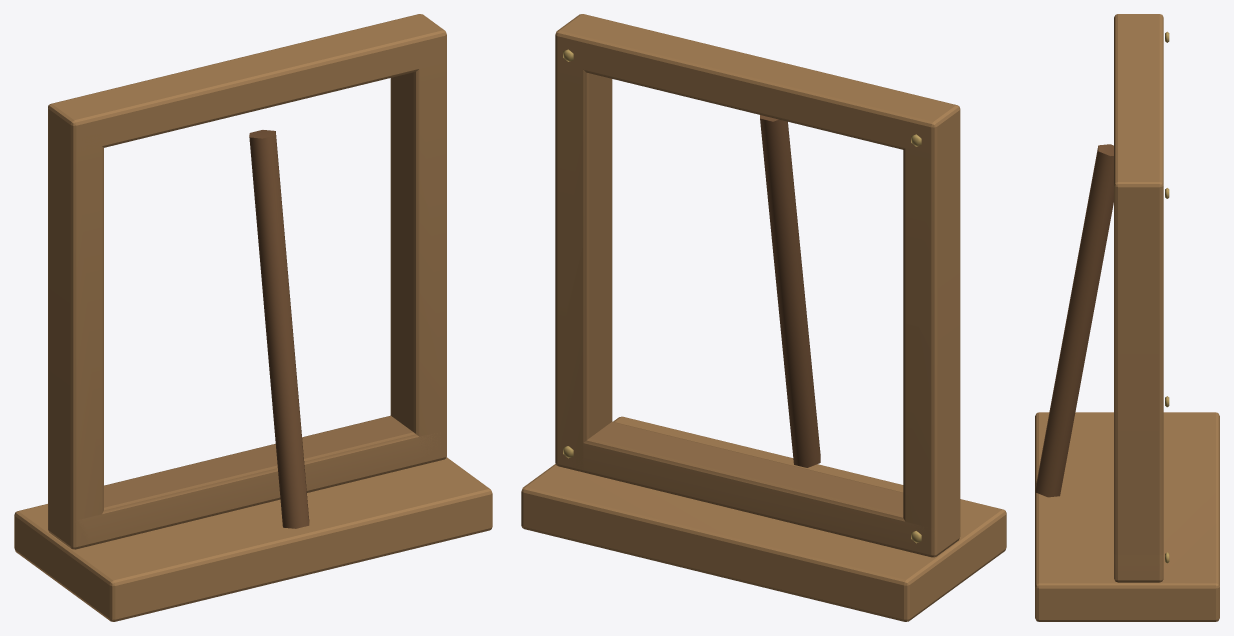
Rendered from frame.glb.
The picture shows the model from 3 angles, left to right: view 1: azimuth 30°, elevation 25°; view 2: azimuth 150°, elevation 25°; view 3: azimuth 270°, elevation 25°; orthographic projection. The views are drawn at different scales.
Bounding box in the file's own units: 0.29 × 0.3405 × 0.13.
